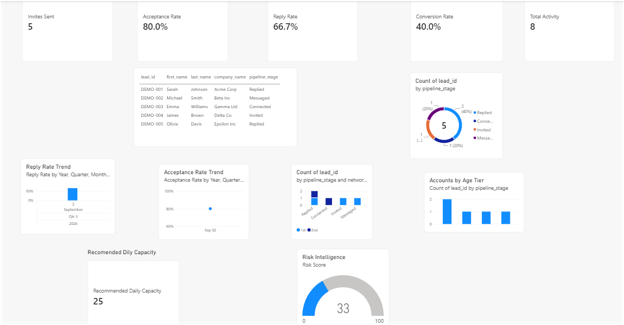

The page's visual inventory and layout, read from the dashboard file:
{"tool":"powerbi","page":{"name":"Page 1","canvas":[1920,1080],"ordinal":0},"visuals":[{"type":"cardVisual","fields":{"Data":["Measures (2).Invites Sent"]},"box":[65.5,0,279.7,241.9],"z":0},{"type":"cardVisual","fields":{"Data":["Measures (2).Acceptance Rate"]},"box":[420.8,0,279.7,241.9],"z":1000},{"type":"cardVisual","fields":{"Data":["Measures (2).Reply Rate"]},"box":[821.4,0,277.2,241.9],"z":2000},{"type":"cardVisual","fields":{"Data":["Measures (2).Conversion Rate"]},"box":[1262.4,0,284.7,241.9],"z":3000},{"type":"cardVisual","fields":{"Data":["Measures (2).Total Activity"]},"box":[1612.6,0,277.2,241.9],"z":4000},{"type":"tableEx","title":"Account Health","fields":{"Values":["public dim_account.account_name","public dim_account.account_status","Sum(public dim_account.daily_capacity_limit)","public dim_account.account_age_tier","Measures (2).Utilisation"]},"box":[68.6,254.6,277.2,246.9],"z":5000},{"type":"donutChart","title":"Account Status Breakdown","fields":{"Category":["public dim_account.account_status"],"Y":["CountNonNull(public dim_account.account_name)"]},"box":[693.5,254.6,279.7,246.9],"z":6000},{"type":"gauge","title":"Risk Intelligence","fields":{"Y":["Measures (2).Risk Score"]},"box":[912,818.1,284.7,262],"z":6001},{"type":"cardVisual","title":"Recomended Dily Capacity","fields":{"Data":["Measures (2).Recommended Daily Capacity"]},"box":[343.1,819.9,282.2,259.5],"z":6002},{"type":"clusteredColumnChart","title":"Reply Rate Trend","fields":{"Category":["public dim_date.full_date.Variation.Date Hierarchy.Year","public dim_date.full_date.Variation.Date Hierarchy.Quarter","public dim_date.full_date.Variation.Date Hierarchy.Month","public dim_date.full_date.Variation.Date Hierarchy.Day"],"Y":["Measures (2).Reply Rate"]},"box":[59.6,540,292.3,234.3],"z":6003},{"type":"lineChart","title":"Acceptance Rate Trend","fields":{"Category":["public dim_date.full_date.Variation.Date Hierarchy.Year","public dim_date.full_date.Variation.Date Hierarchy.Quarter","public dim_date.full_date.Variation.Date Hierarchy.Month","public dim_date.full_date.Variation.Date Hierarchy.Day"],"Y":["Measures (2).Acceptance Rate"]},"box":[440.7,540,279.7,234.3],"z":6004},{"type":"clusteredColumnChart","title":"Accounts by Age Tier","fields":{"Category":["public dim_account.account_age_tier"],"Y":["CountNonNull(public dim_account.account_key)"]},"box":[1441.2,588.8,309.9,186.5],"z":6005},{"type":"gauge","title":"Capacity Utilisation","fields":{"Y":["Measures (2).Utilisation"]},"box":[1316.6,254.6,279.7,246.9],"z":6006},{"type":"columnChart","box":[847,541.8,252,234],"z":6007}]}

Visuals, with their boxes on the page's 1920x1080 design canvas (x1, y1, x2, y2). These are canvas units, not pixel positions in the 624x325 screenshot, which may show the page scaled, cropped or inside an application window:
cardVisual - Measures (2).Invites Sent: (x1=66, y1=0, x2=345, y2=242)
cardVisual - Measures (2).Acceptance Rate: (x1=421, y1=0, x2=700, y2=242)
cardVisual - Measures (2).Reply Rate: (x1=821, y1=0, x2=1099, y2=242)
cardVisual - Measures (2).Conversion Rate: (x1=1262, y1=0, x2=1547, y2=242)
cardVisual - Measures (2).Total Activity: (x1=1613, y1=0, x2=1890, y2=242)
"Account Health" tableEx: (x1=69, y1=255, x2=346, y2=502)
"Account Status Breakdown" donutChart: (x1=694, y1=255, x2=973, y2=502)
"Risk Intelligence" gauge: (x1=912, y1=818, x2=1197, y2=1080)
"Recomended Dily Capacity" cardVisual: (x1=343, y1=820, x2=625, y2=1079)
"Reply Rate Trend" clusteredColumnChart: (x1=60, y1=540, x2=352, y2=774)
"Acceptance Rate Trend" lineChart: (x1=441, y1=540, x2=720, y2=774)
"Accounts by Age Tier" clusteredColumnChart: (x1=1441, y1=589, x2=1751, y2=775)
"Capacity Utilisation" gauge: (x1=1317, y1=255, x2=1596, y2=502)
columnChart: (x1=847, y1=542, x2=1099, y2=776)
